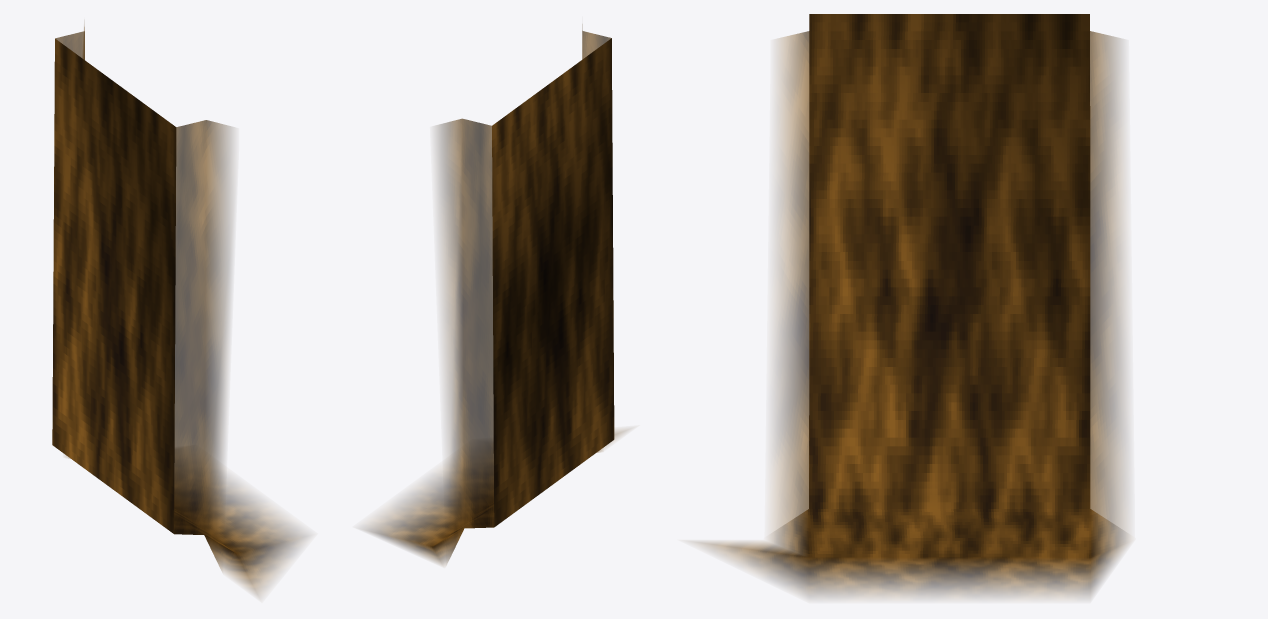
The model's file is test-fog_door.glb.
The picture shows the model from 3 angles, left to right: view 1: azimuth 30°, elevation 25°; view 2: azimuth 150°, elevation 25°; view 3: azimuth 270°, elevation 25°; orthographic projection. The views are drawn at different scales.
Parts seen in each view (by area): view 1: fog; view 2: fog; view 3: fog.
Part boxes in pixels (x1,y1,x2,y2): fog: (52, 23, 307, 596); fog: (362, 24, 628, 565); fog: (694, 14, 1129, 597).
Bounding box in the file's own units: 18.39 × 52.81 × 54.63.
Materials: 1 (1 with a texture image).
